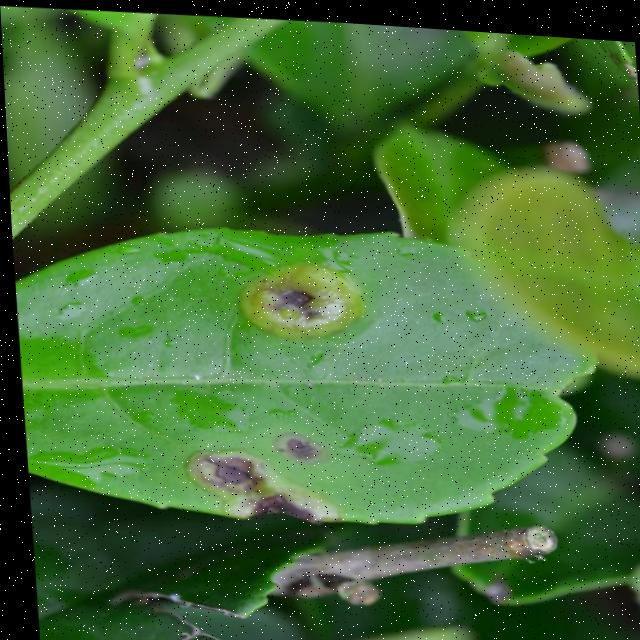Tea cake: (202, 424, 336, 536), (243, 253, 358, 348)
